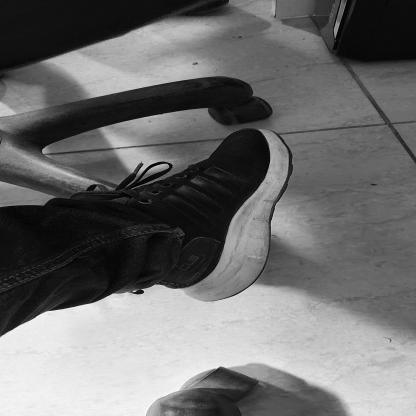ankle: (179, 235, 194, 242)
heel: (201, 293, 215, 300)
left_foot: (125, 130, 294, 303)
pinky: (230, 139, 238, 142)
toe: (261, 137, 276, 141)
